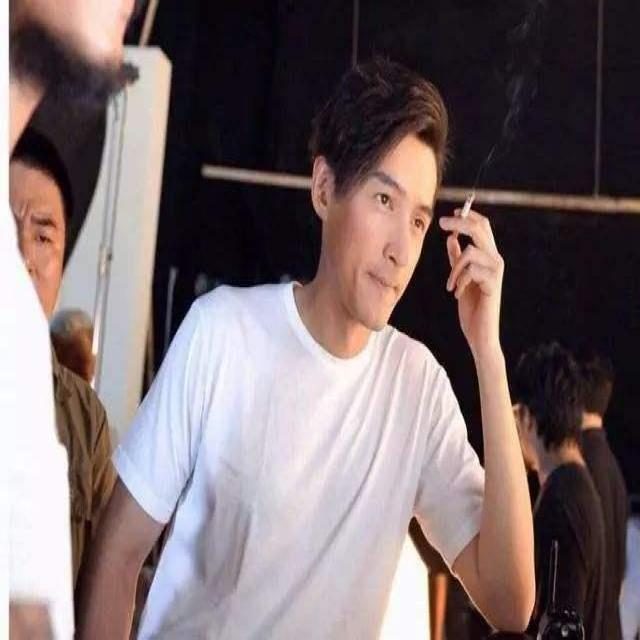Сигарета: (452, 192, 475, 241)
Тело: (91, 90, 537, 640)
